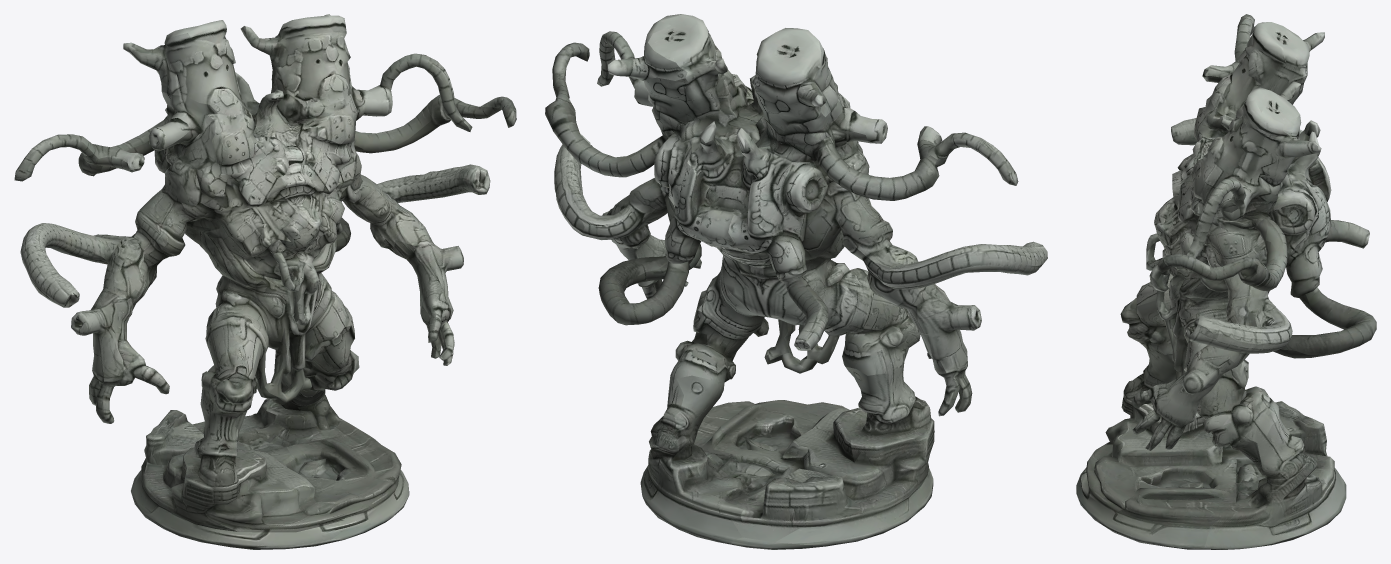
File: clockwork-colossus.glb
3 views of the same model, side by side, from view 1: azimuth 30°, elevation 25°; view 2: azimuth 150°, elevation 25°; view 3: azimuth 270°, elevation 25° (orthographic). The views are drawn at different scales.
Parts seen in each view (by area): view 1: mesh_node; view 2: mesh_node; view 3: mesh_node.
Boxes of the visible parts, x1,y1,x2,y2 form: mesh_node: [14, 14, 516, 549]; mesh_node: [545, 14, 1047, 549]; mesh_node: [1076, 14, 1376, 549].
Size of the model in its own units: 1.91 by 1.84 by 1.09.
Materials: 1 (1 with a texture image).
